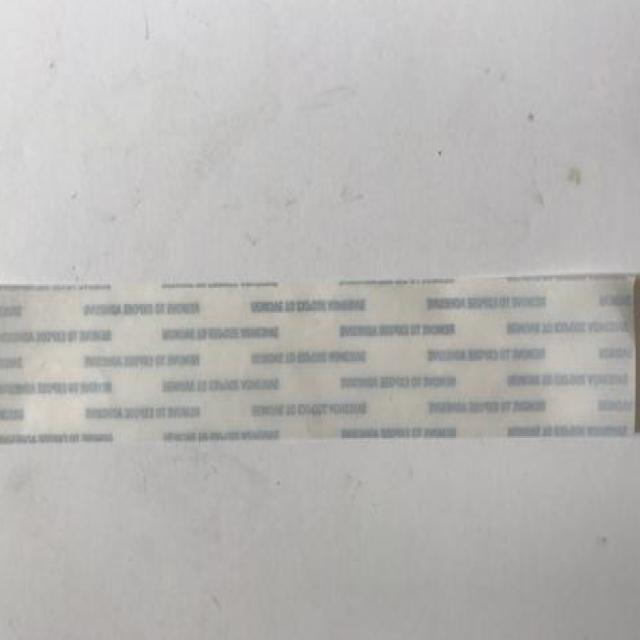kertas: (0, 269, 640, 449)
